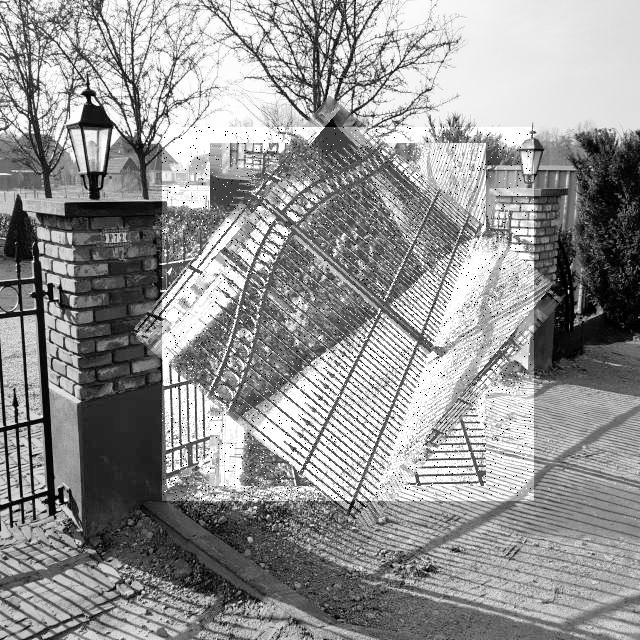fences: (162, 127, 534, 501)
